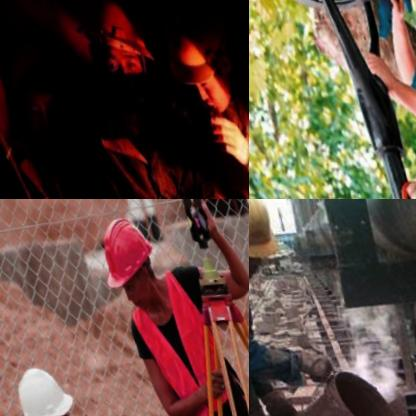helmet: (80, 202, 179, 324), (77, 0, 166, 134), (150, 0, 246, 115), (0, 349, 89, 416), (249, 199, 295, 286)
